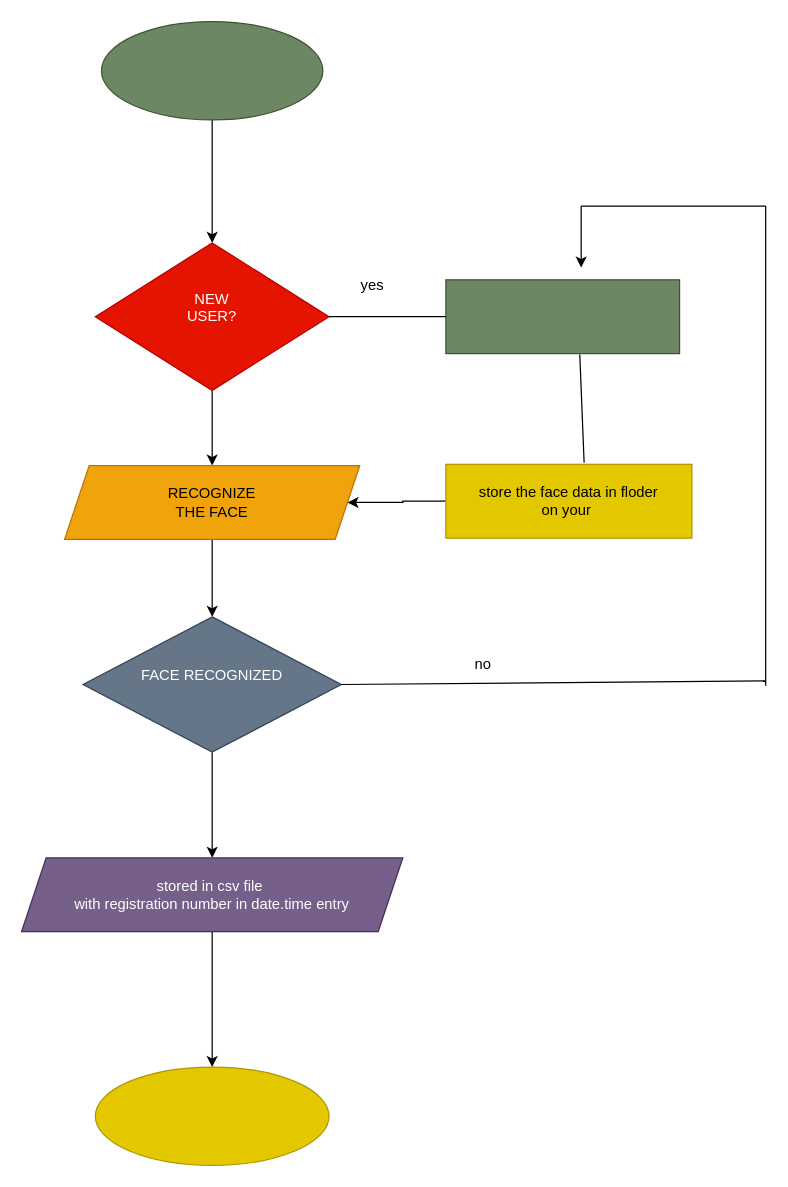
This 788x1187 diagram has some shape labels left out. Here are the shapes that lost their labels. From the top down, the box of each, then its label:
(100, 20, 323, 120): Start
(445, 279, 680, 354): GIVE your photograph
(94, 1066, 329, 1165): END
